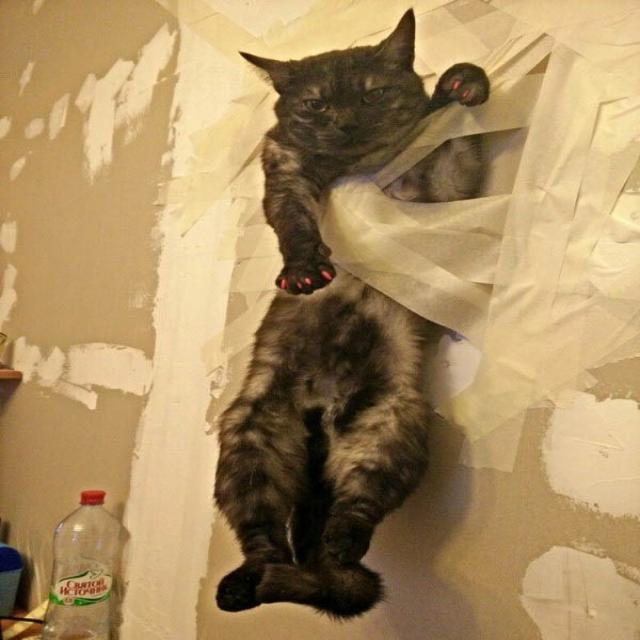cat: (211, 29, 481, 620)
